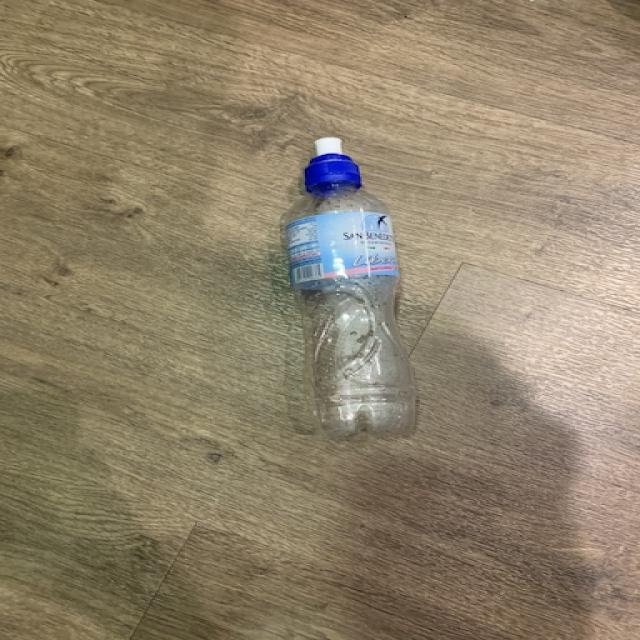Plastic: (285, 138, 417, 438)
